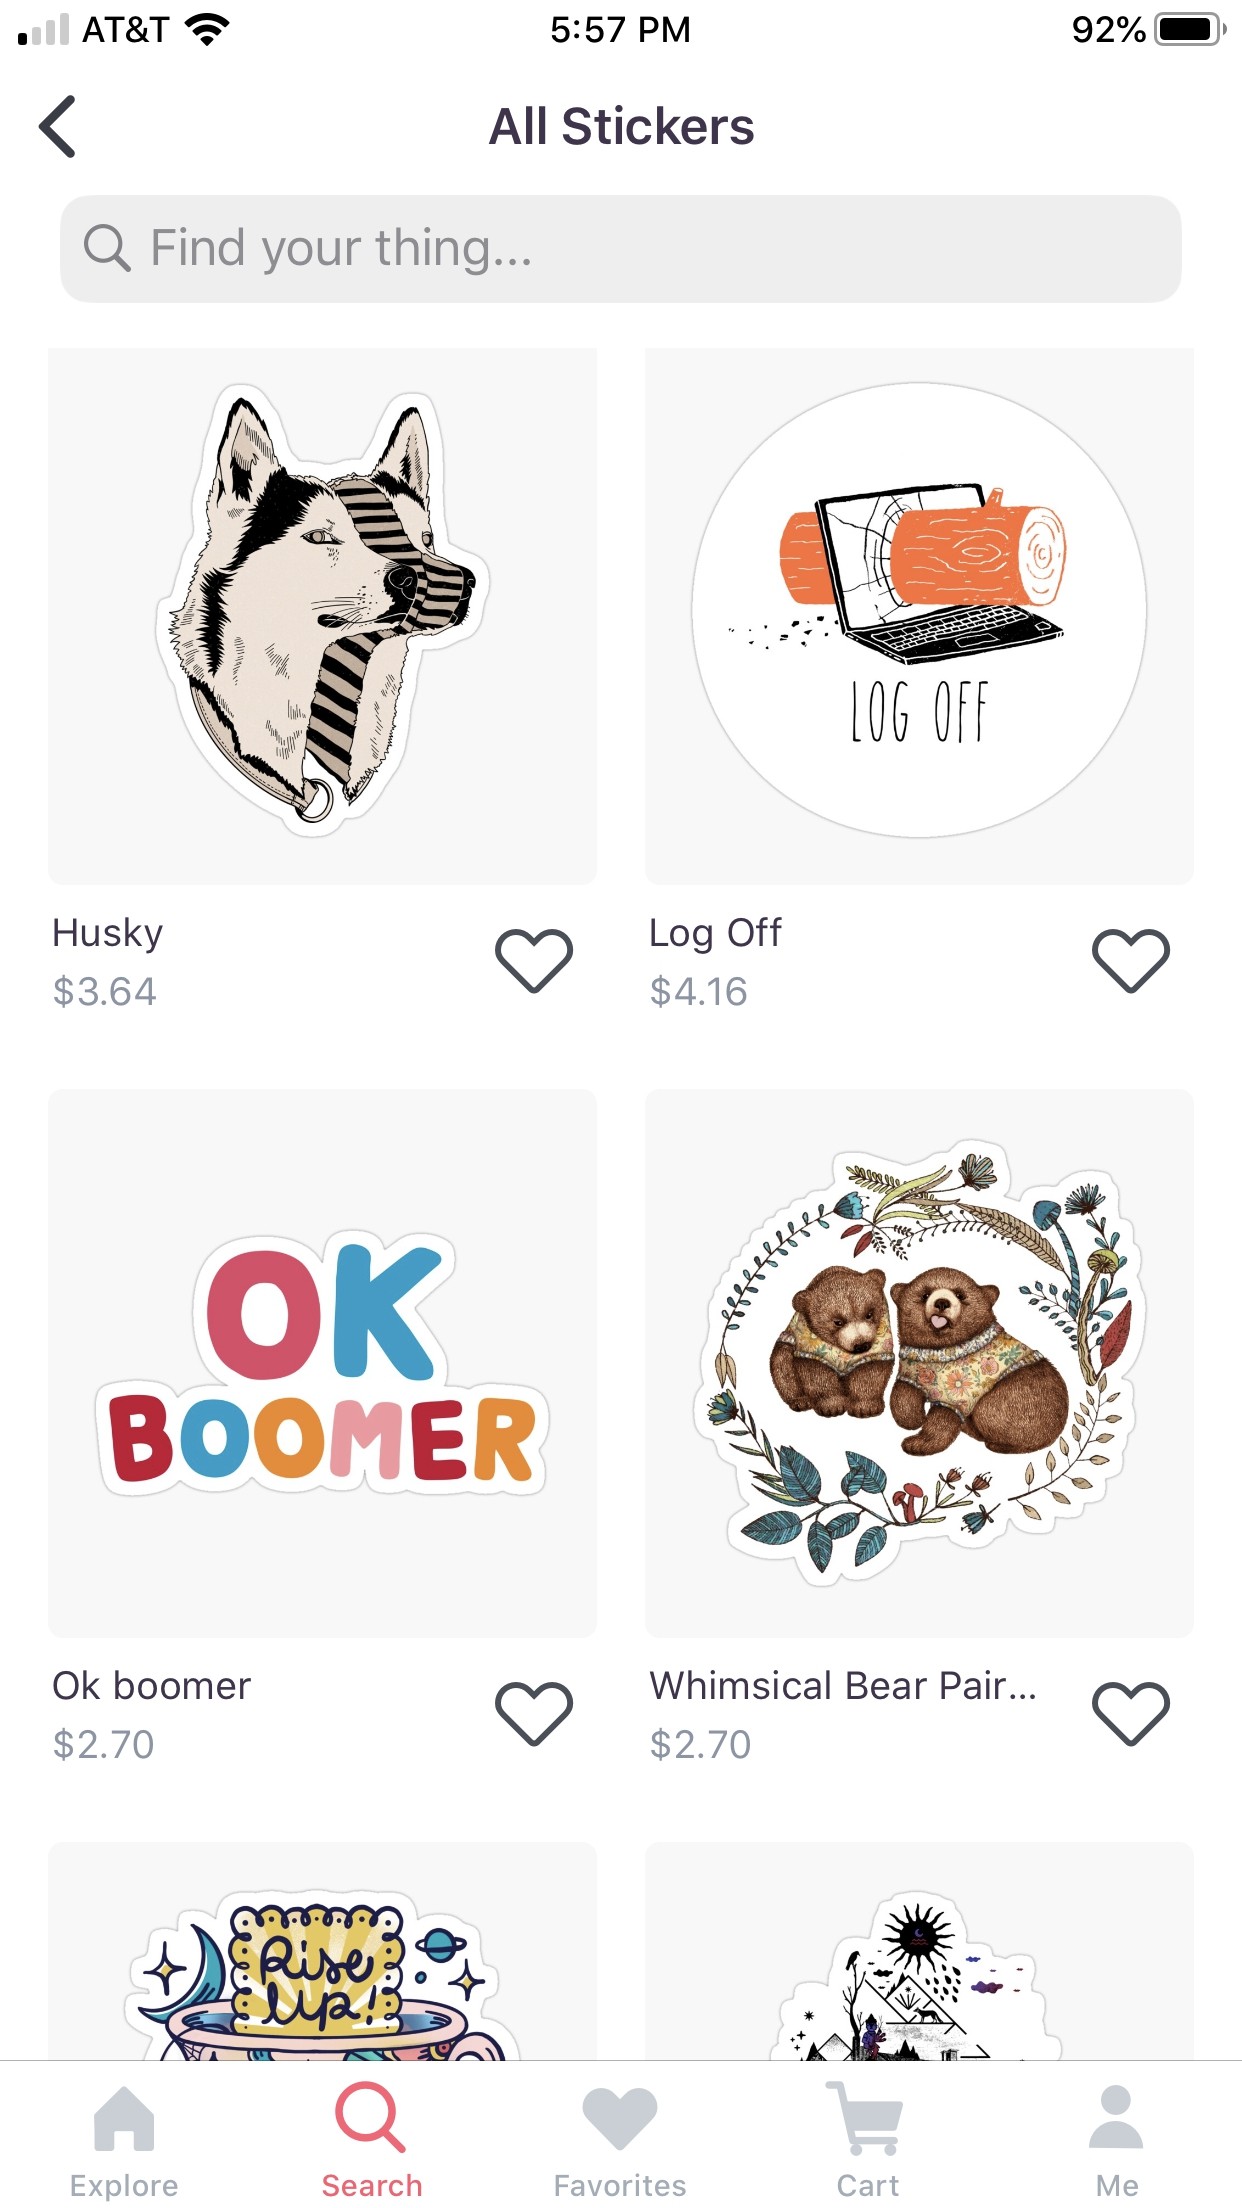EditText: (61, 196, 1181, 303)
Icon: (825, 2081, 904, 2156), (334, 2081, 406, 2153), (494, 1682, 575, 1747), (1092, 1682, 1171, 1747), (494, 930, 575, 993), (1092, 930, 1171, 993), (582, 2087, 658, 2150), (94, 2085, 155, 2150), (1089, 2085, 1143, 2149), (38, 96, 77, 159), (83, 224, 130, 271)
Image: (645, 1089, 1193, 1638), (49, 1089, 597, 1638), (645, 347, 1195, 886), (49, 347, 597, 886), (49, 1841, 597, 2059), (645, 1843, 1193, 2059)
Text: (153, 227, 529, 276), (649, 1670, 1034, 1700), (488, 105, 754, 146), (53, 1670, 252, 1700), (651, 917, 783, 954), (55, 917, 162, 954), (55, 974, 156, 1008), (651, 974, 748, 1008), (555, 2172, 685, 2197), (651, 1727, 751, 1761), (55, 1727, 153, 1761), (71, 2172, 177, 2202), (321, 2173, 422, 2197), (837, 2173, 899, 2197), (1096, 2173, 1137, 2197)
UpperTaskBar: (2, 2, 1242, 49)
